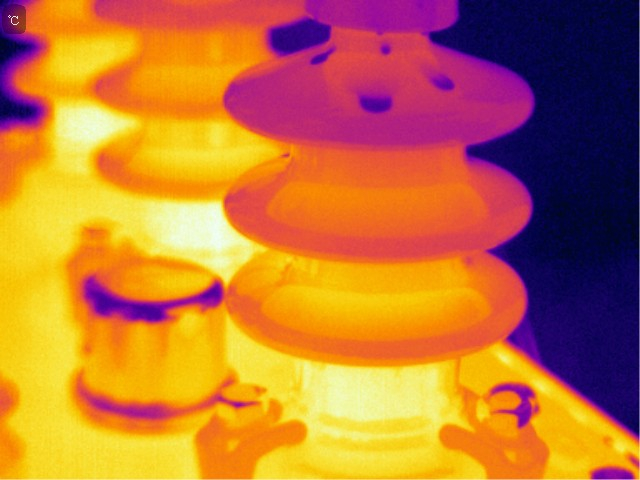Water: (353, 88, 399, 116), (309, 45, 341, 67), (427, 73, 458, 93), (376, 42, 396, 57)
